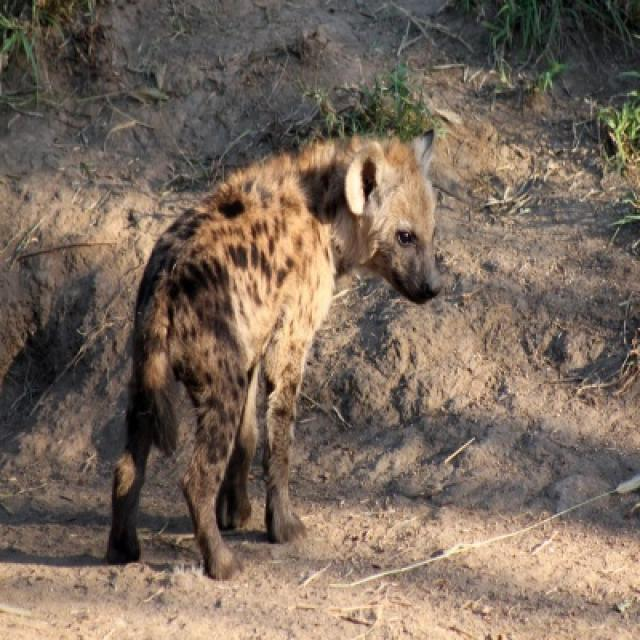hyena: (107, 131, 440, 578)
